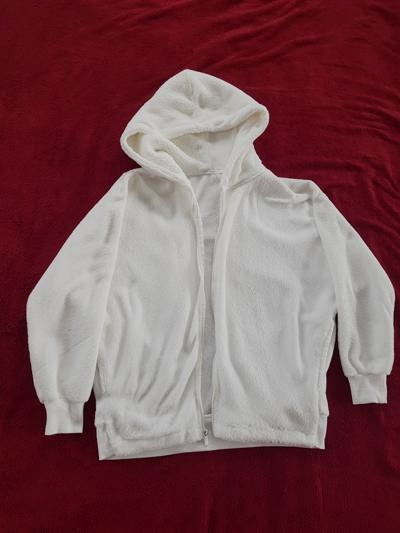Hoodie: (17, 56, 397, 470)
